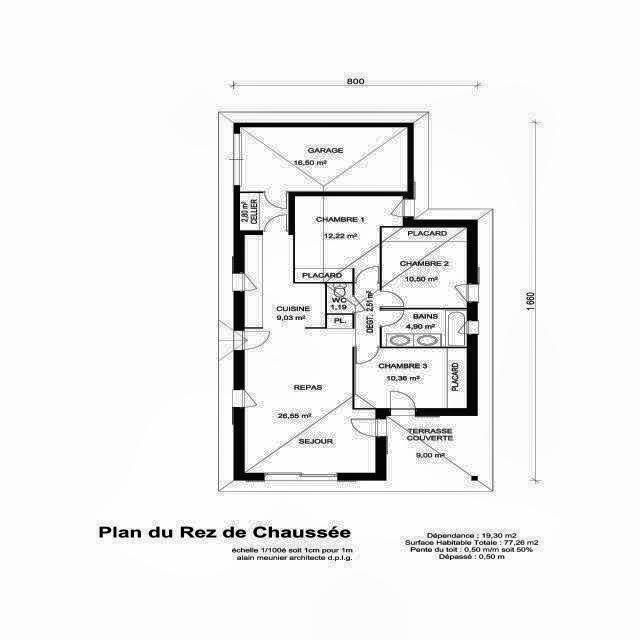room: (245, 232, 380, 474), (240, 127, 407, 192), (295, 196, 403, 282), (382, 227, 467, 308), (354, 348, 467, 408), (382, 309, 467, 347), (240, 193, 289, 230), (327, 283, 353, 313)
